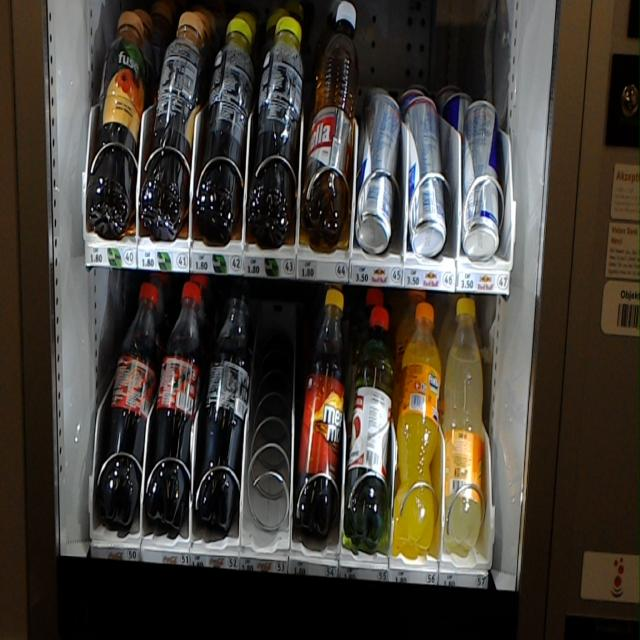coke__flasche_50__54491472: (106, 280, 155, 522), (153, 279, 202, 519)
coke_zero_flasche_50__5449000131836: (200, 276, 247, 516)
fanta___50__40822938: (397, 302, 442, 542)
fuse_lemon__50__5449000235947: (197, 17, 253, 237), (249, 21, 302, 238)
fuse_peach__50__5449000236623: (143, 15, 203, 237), (93, 11, 145, 230)
mezzomix___50__54490840: (300, 287, 346, 524)
ramseier_jusdepomme__50__7610057001078: (347, 304, 396, 532)
redbull___33__90162909: (356, 98, 401, 244), (461, 103, 498, 253), (408, 96, 438, 252)
rivella_rot__50__7610097111072: (301, 1, 357, 237)
schweppes_citrus__50__: (446, 295, 486, 547)
